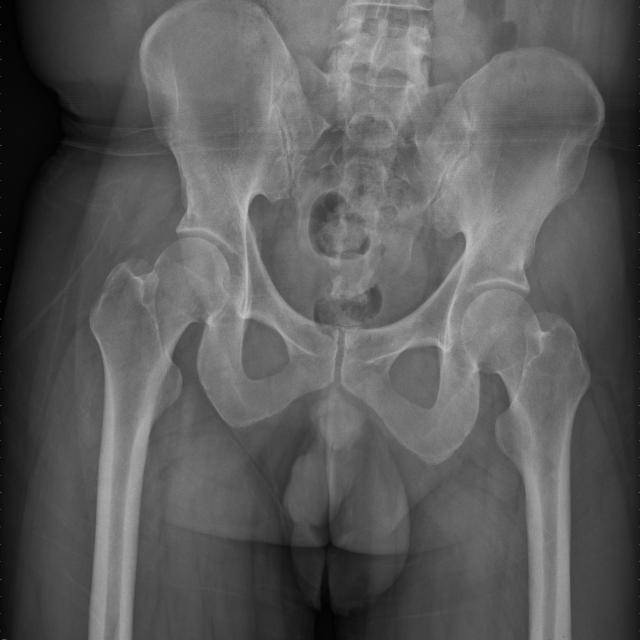normal-left: (462, 289, 589, 546)
normal-right: (90, 237, 231, 499)
